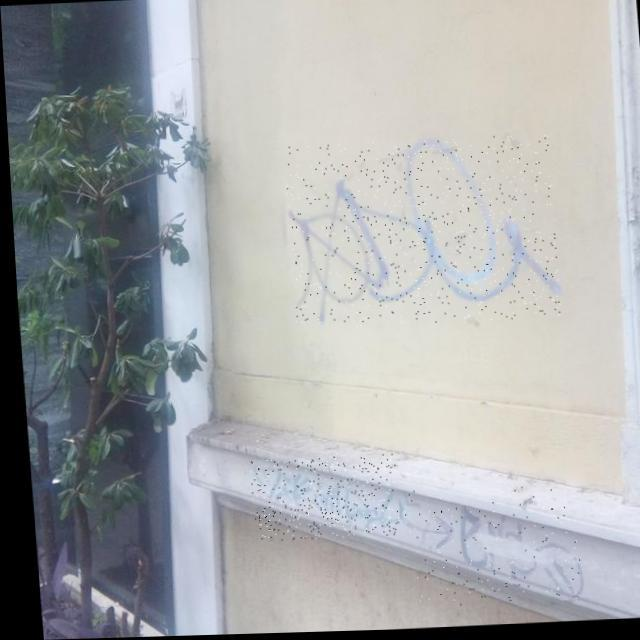-: (280, 137, 558, 330), (395, 486, 577, 610), (243, 456, 393, 542)
